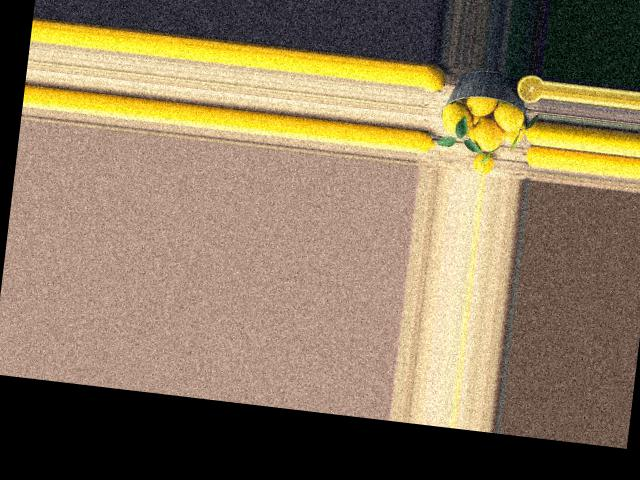lemon: (488, 92, 526, 133)
